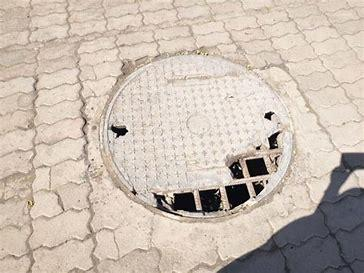wellcover: (103, 61, 292, 221)
